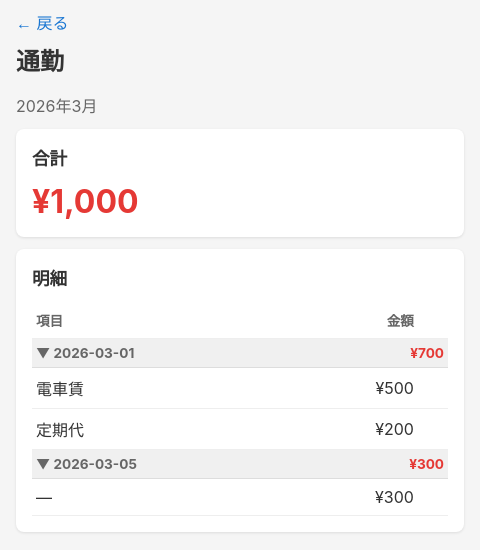
Test: TagDetails › 日付ヘッダーをクリックすると明細行が非表示になる
Expected: the text "電車賃" is shown, [32, 368, 242, 408]
Click the text "▼ 2026-03-01 ¥700" at (240, 353), box [32, 338, 448, 368]
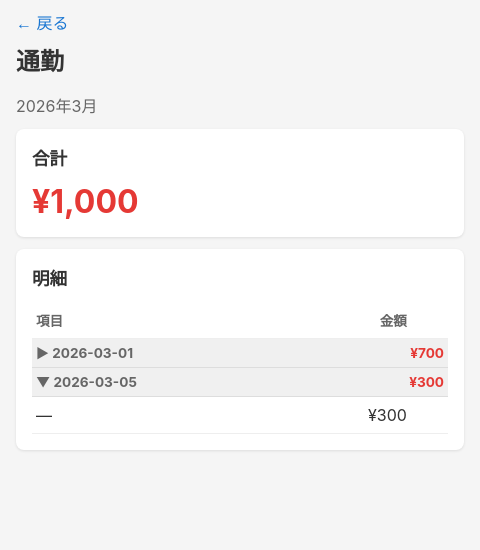
Expected: the text "—" is shown, [32, 396, 194, 434]
Expected: the text "電車賃" is gone
Expected: the text "定期代" is gone
